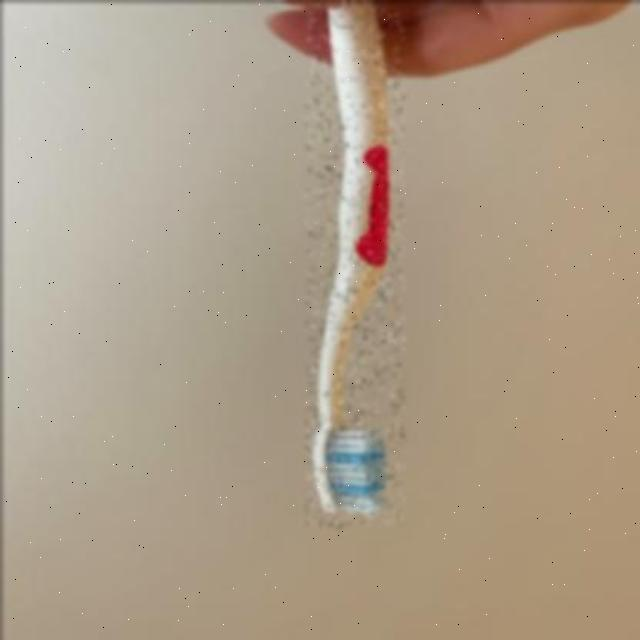toothbrush: (305, 0, 403, 526)
